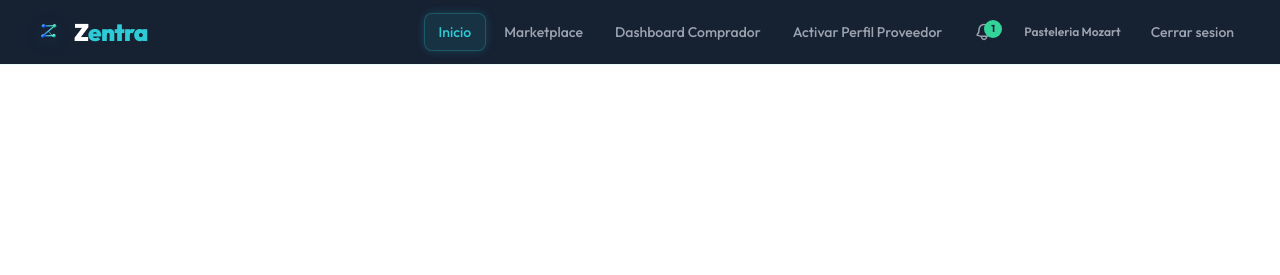
Test: Navbar › muestra contador y dropdown de notificaciones
Click the button named "Notificaciones" at [984, 32], box 960,14 -> 1008,50
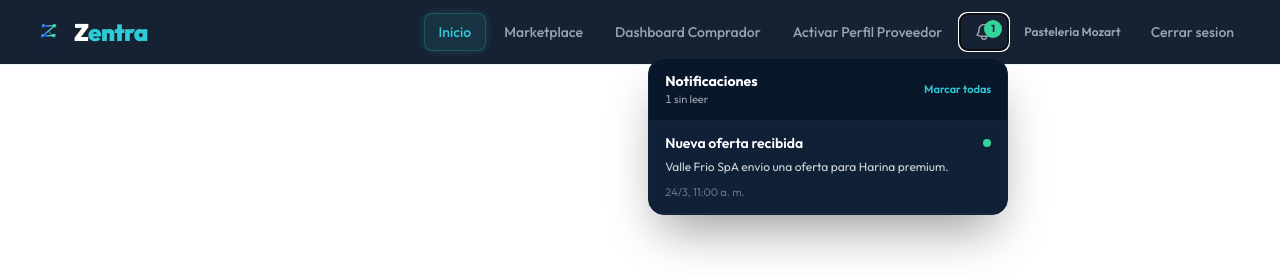
Now the text "Nueva oferta recibida" is shown, box 665,134 -> 803,152
Now the text "Valle Frio SpA envio una oferta para Harina premium." is shown, box 665,156 -> 949,176
Now the text "1 sin leer" is shown, box 665,92 -> 708,106
